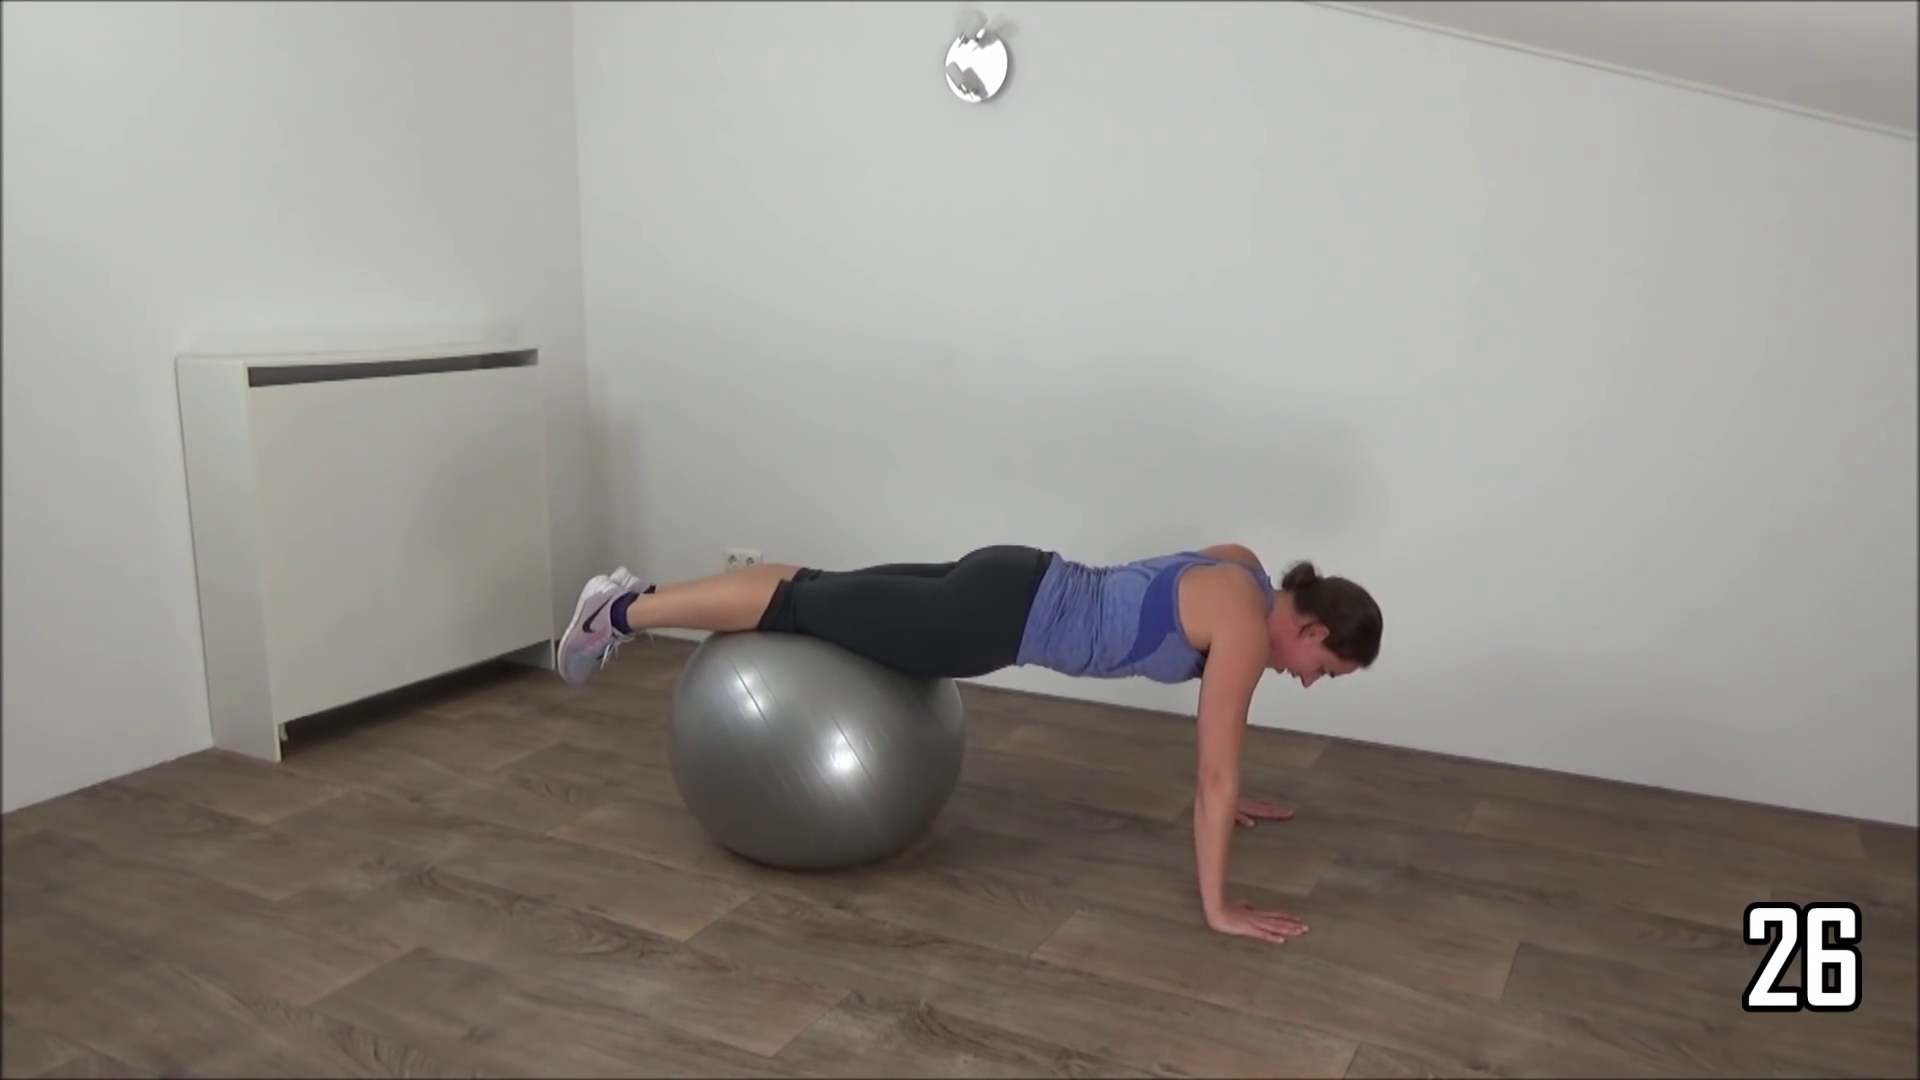yogaball: (649, 605, 989, 887)
